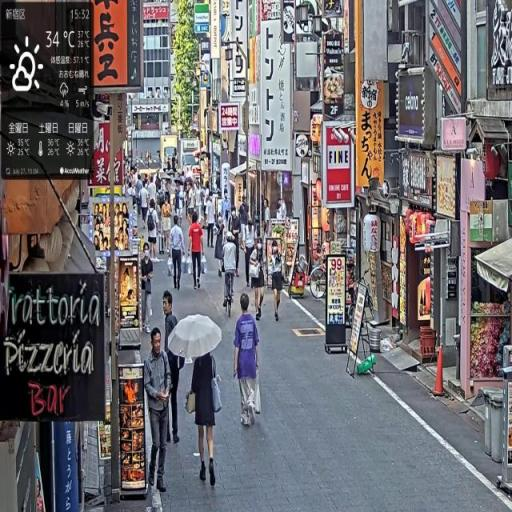person: (145, 325, 174, 503), (188, 351, 224, 489), (233, 294, 262, 429), (161, 288, 183, 447), (249, 235, 267, 322), (222, 230, 239, 317), (140, 241, 155, 336), (270, 239, 286, 324), (189, 212, 206, 292), (169, 216, 186, 293), (147, 200, 161, 260)
